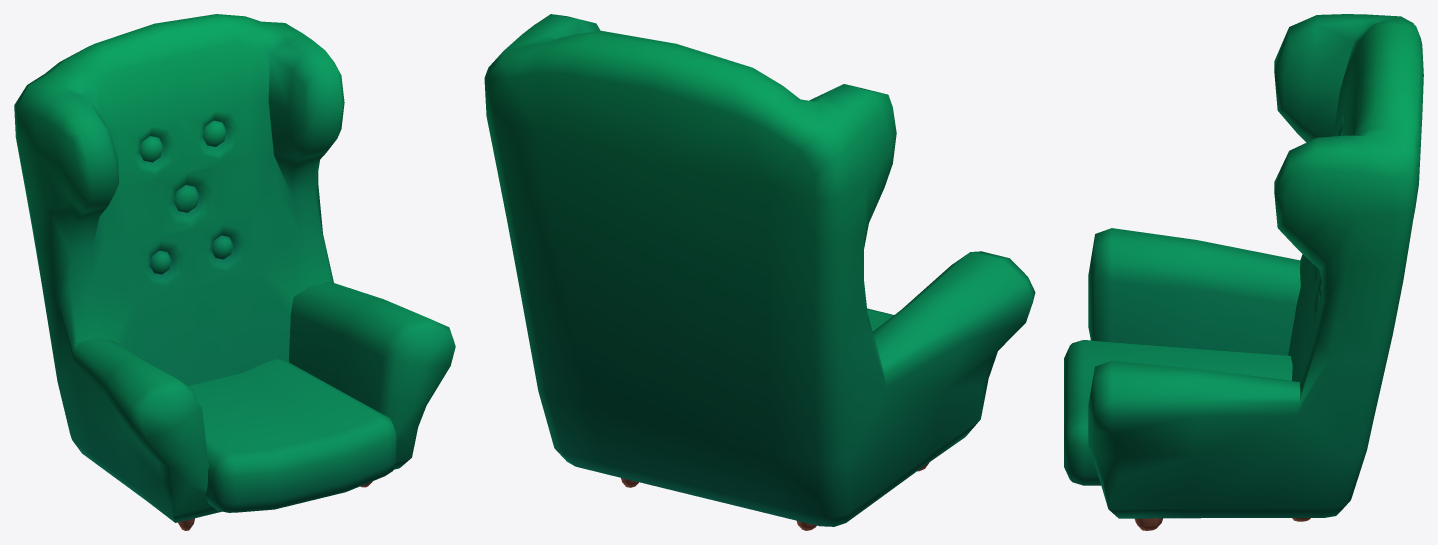
Rendered from chair_large_green.glb.
The picture shows the model from 3 angles, left to right: view 1: azimuth 30°, elevation 25°; view 2: azimuth 150°, elevation 25°; view 3: azimuth 270°, elevation 25°; orthographic projection. The views are drawn at different scales.
Parts seen in each view (by area): view 1: chair_large_green; view 2: chair_large_green; view 3: chair_large_green.
Boxes of the visible parts, x1,y1,x2,y2 form: chair_large_green: (14,14,455,530); chair_large_green: (484,14,1035,530); chair_large_green: (1064,14,1423,530).
Size of the model in its own units: 1.83 by 2.14 by 1.61.
Materials: 1 (1 with a texture image).
